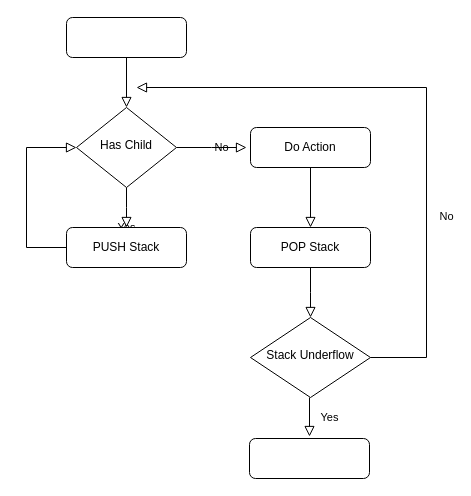
The diagram is 471 pixels wide and 496 high, and some of its shapes have lost their labels. Each missing label, with the centre of its shape:
"END" goes at point (309, 458).
"START" goes at point (126, 37).
